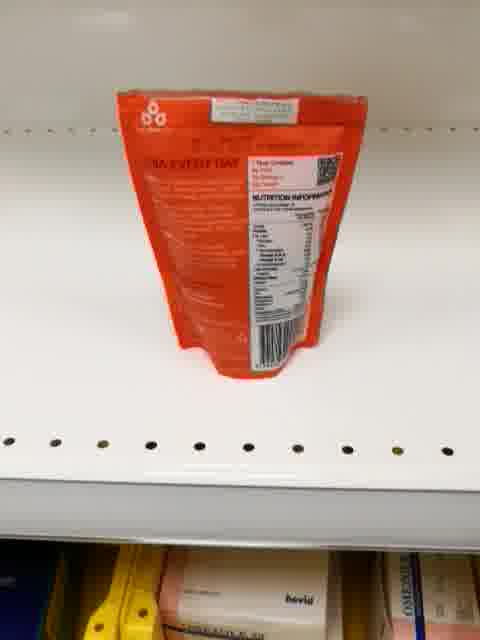whitechia: (115, 84, 372, 384)
